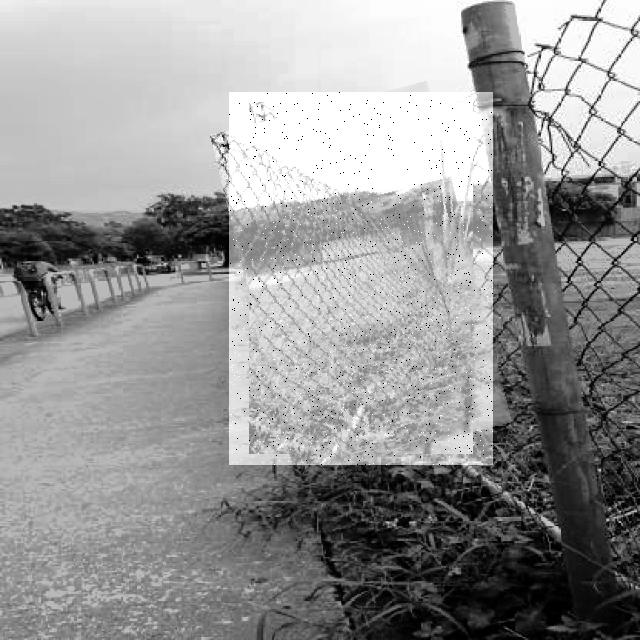anomaly-fence: (229, 92, 493, 465)
